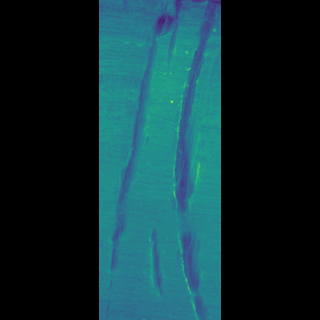Loch: (136, 1, 171, 318), (163, 1, 182, 320), (154, 221, 163, 298)
